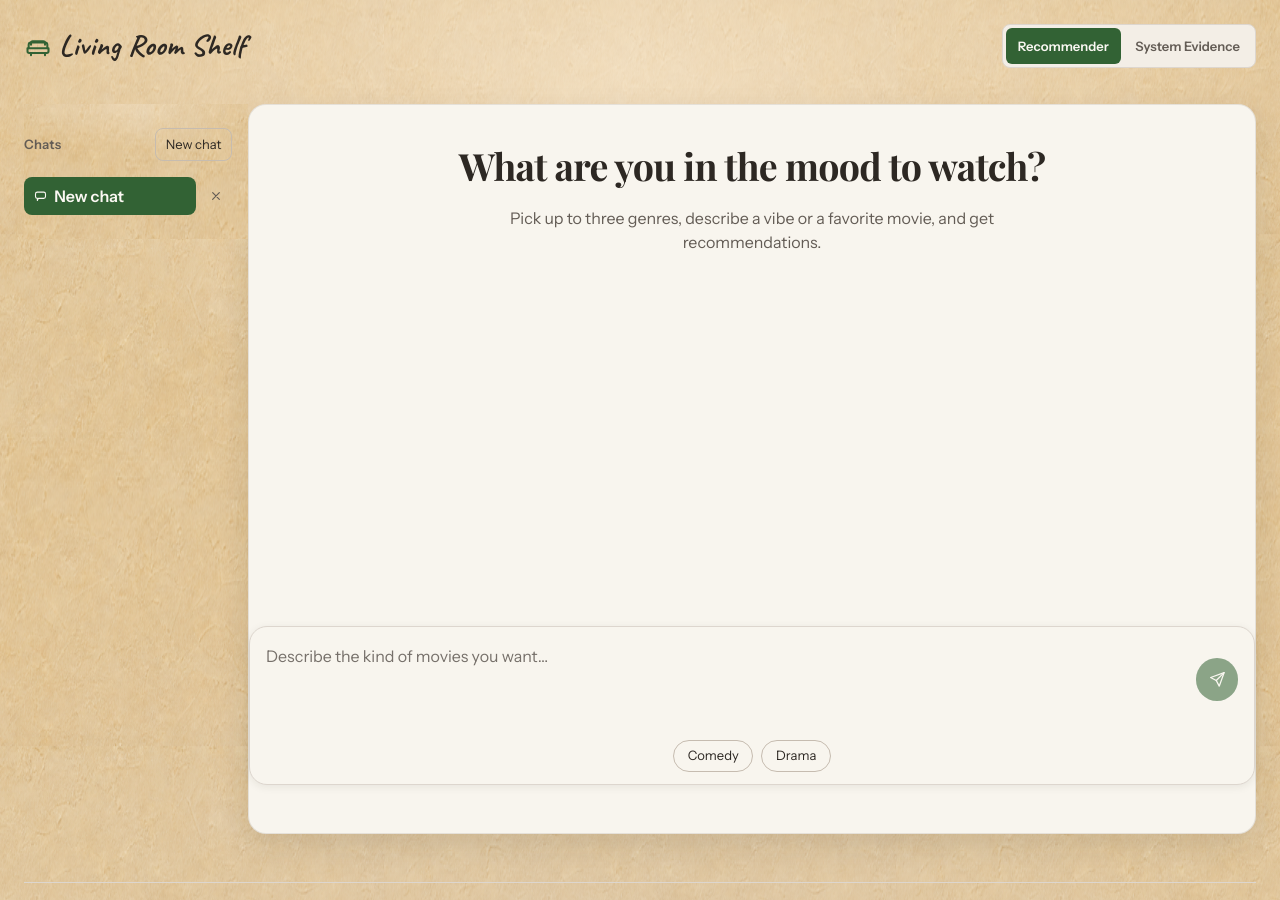
Test: App conversational RAG chat › shows disambiguation candidate year in picker rows
Type "king kong" into the text box with placeholder "Describe the kind of movies you want…" at (728, 679), box x1=266 y1=639 x2=1190 y2=720
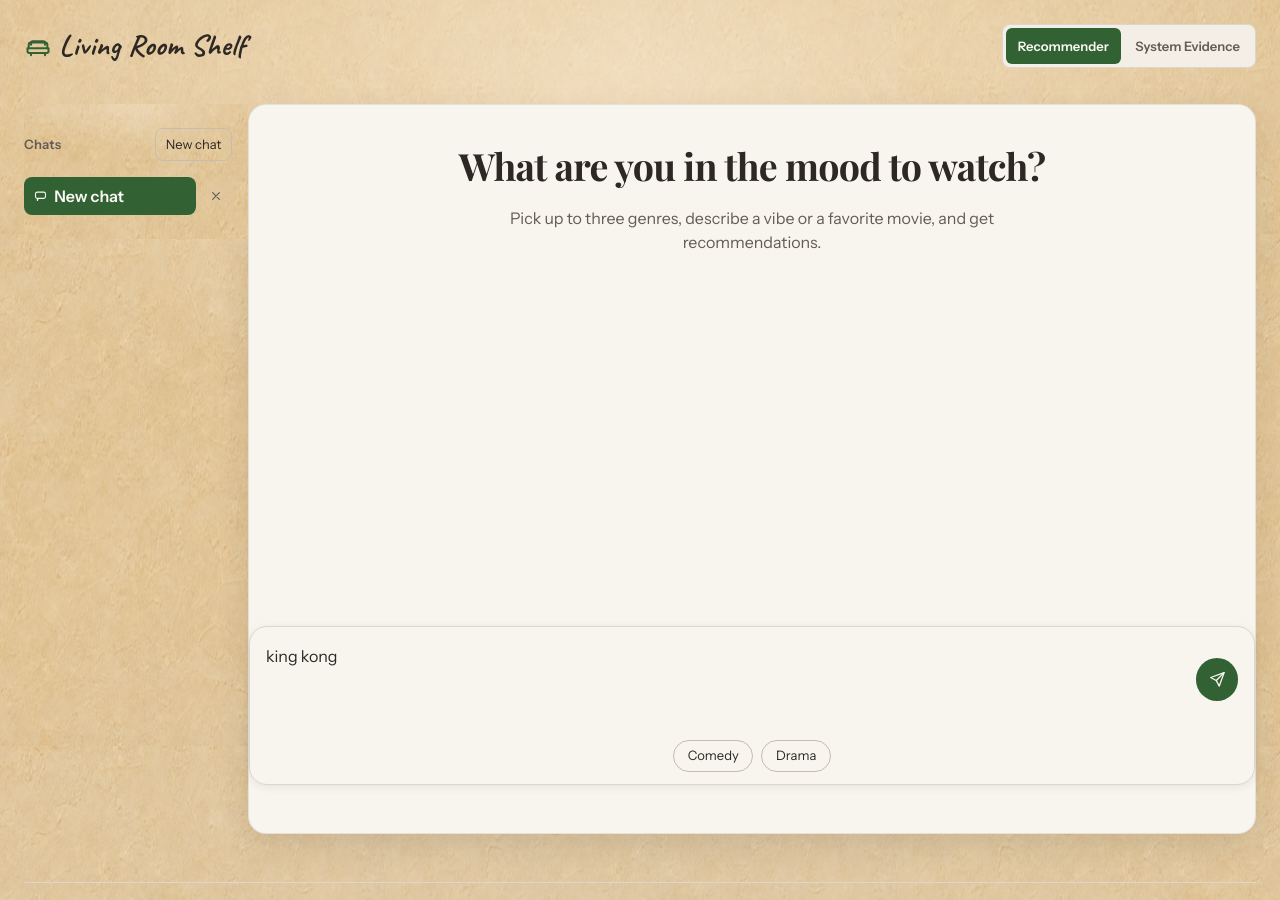
Click the button named "Send" at (1217, 679), box x1=1196 y1=658 x2=1238 y2=700
(page scrolled)
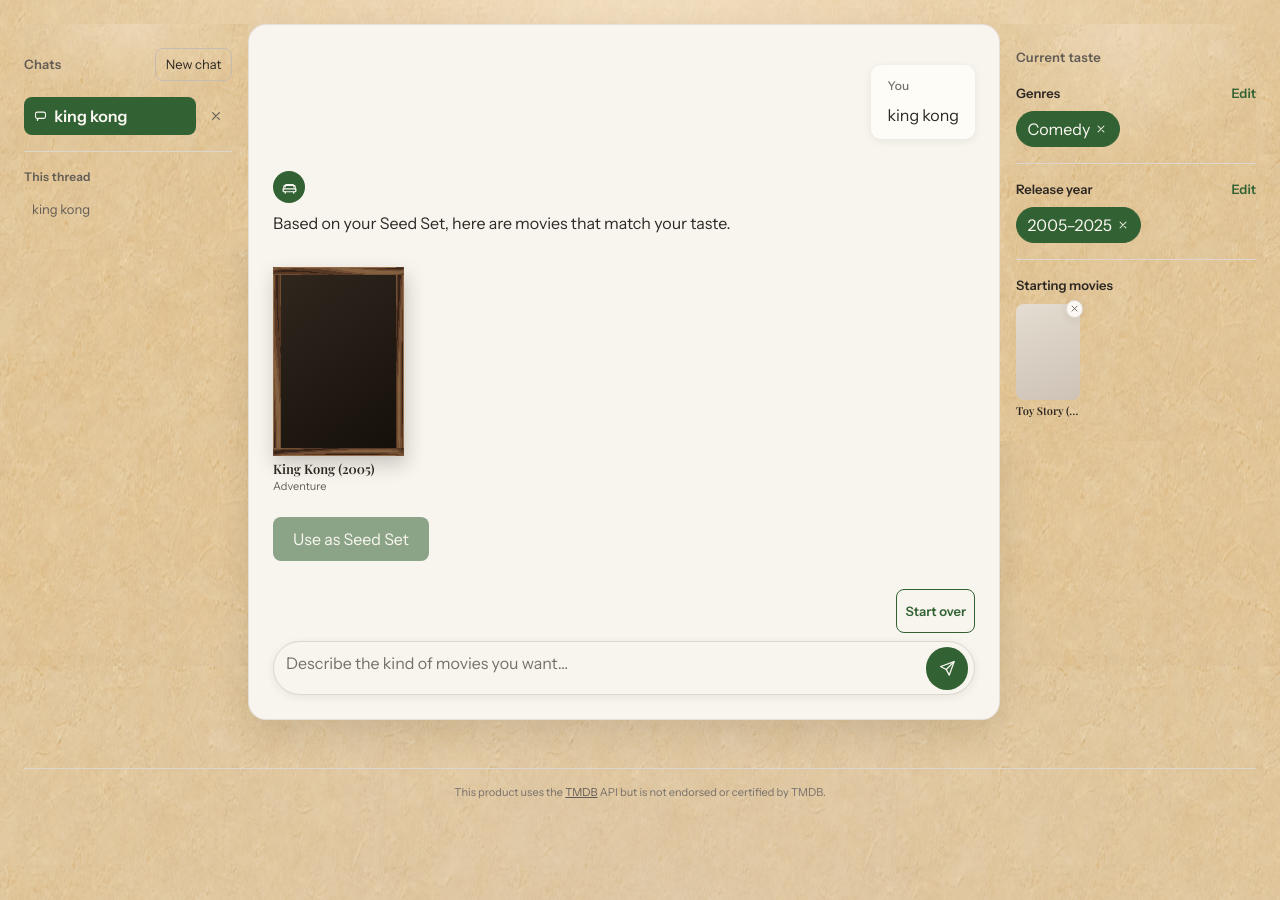
Expected: the text "King Kong (2005)" is shown, x1=273 y1=460 x2=374 y2=477
Expected: the text "Adventure" is shown, x1=273 y1=479 x2=326 y2=493
